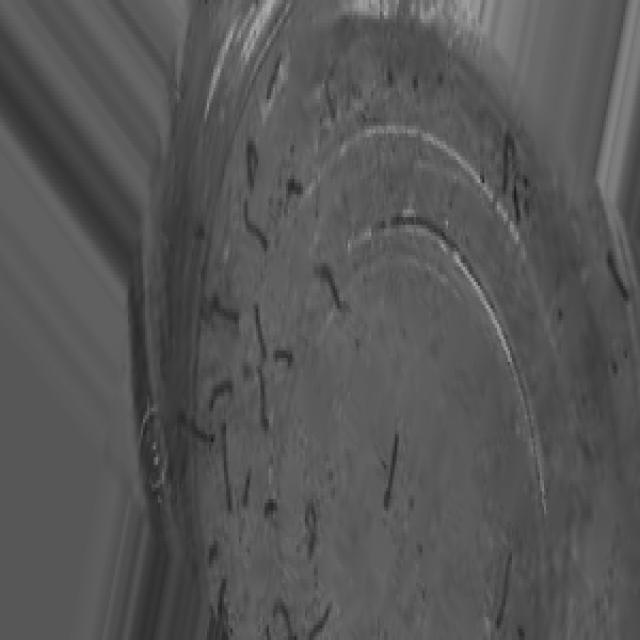larvas: (494, 548, 514, 628), (382, 436, 402, 512), (244, 203, 270, 253), (315, 262, 342, 309), (220, 425, 233, 516), (608, 246, 629, 302), (271, 602, 299, 640), (183, 413, 216, 445), (254, 363, 268, 436), (263, 51, 282, 102), (301, 500, 316, 560), (308, 603, 331, 640), (325, 60, 338, 124), (514, 171, 528, 229), (502, 130, 514, 196), (214, 292, 239, 322), (255, 298, 267, 358), (243, 142, 259, 187), (208, 378, 231, 409), (216, 576, 228, 631), (284, 178, 304, 211), (198, 299, 214, 330), (272, 346, 294, 366), (241, 470, 251, 510)
